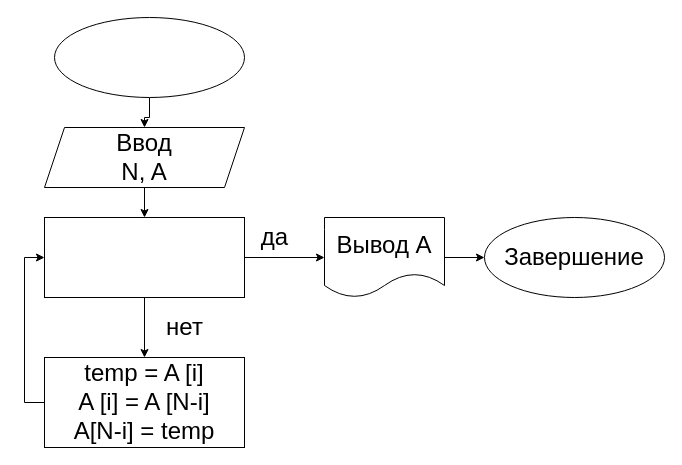
This 682x465 diagram has some shape labels left out. Each missing label, with the centre of its shape:
i = 0, i < N - 1, i ++: (x=144, y=257)
Начало: (x=149, y=57)
